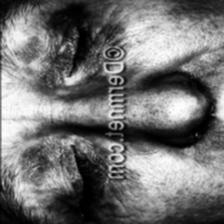Non-Cancerous Skin Condition: (123, 10, 224, 216), (20, 32, 66, 88), (17, 146, 64, 192)
